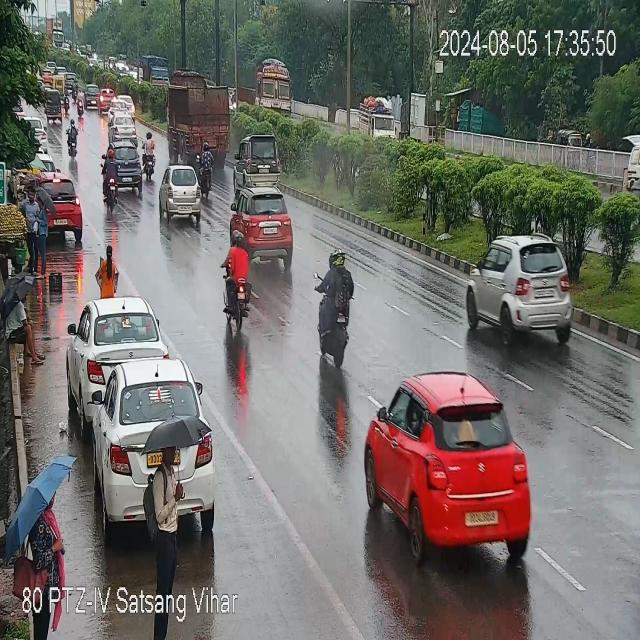2-wheelers: (314, 246, 360, 368), (216, 235, 253, 328), (198, 143, 215, 194), (65, 118, 80, 159), (142, 134, 156, 176)
auto: (43, 88, 66, 125)
car: (366, 378, 536, 560), (84, 357, 216, 536), (468, 236, 578, 340), (70, 298, 169, 394), (228, 191, 298, 263), (234, 134, 284, 189), (161, 168, 200, 221), (55, 175, 86, 238), (114, 140, 141, 191), (108, 112, 140, 142), (99, 90, 115, 111)
pedestrian: (147, 436, 191, 582), (25, 486, 71, 608), (6, 291, 48, 364), (23, 187, 50, 274), (96, 243, 120, 298)
truck: (166, 84, 242, 167), (238, 56, 292, 111), (359, 102, 398, 141), (142, 54, 170, 88)
